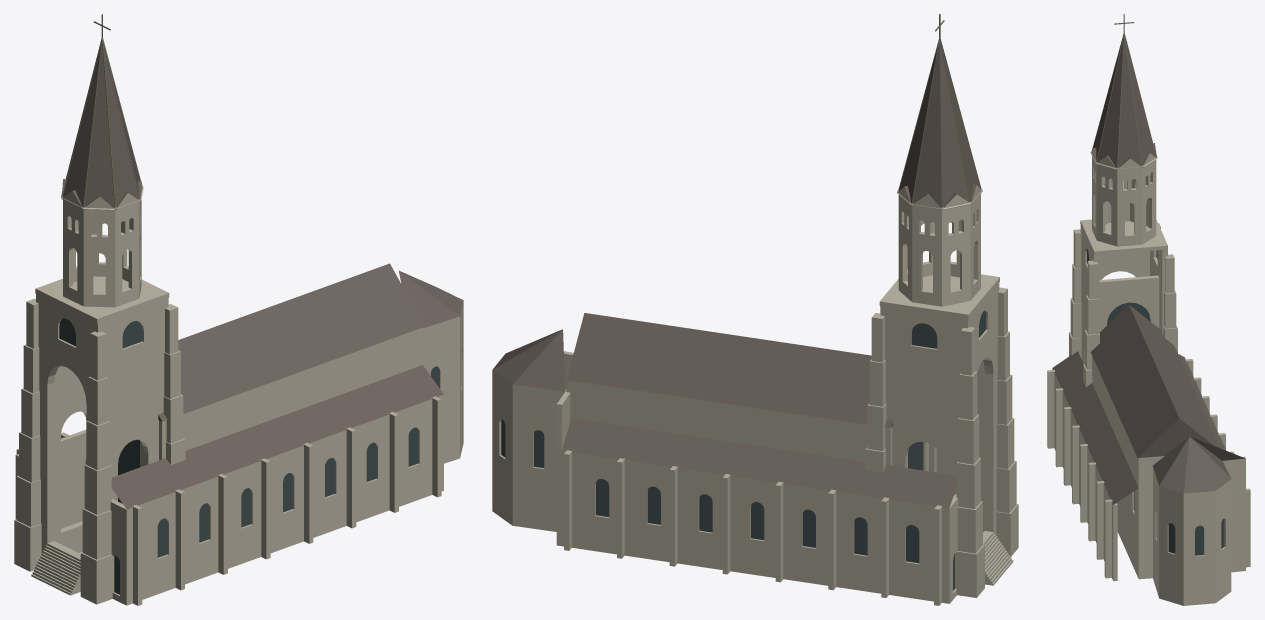
Rendered from basilique-visitation-annecy-far.glb.
The picture shows the model from 3 angles, left to right: view 1: azimuth 30°, elevation 25°; view 2: azimuth 150°, elevation 25°; view 3: azimuth 270°, elevation 25°; orthographic projection. The views are drawn at different scales.
Visible parts, largest first — view 1: basilique-visitation-annecy-0-stone, basilique-visitation-annecy-0-roof, basilique-visitation-annecy-0-glass, basilique-visitation-annecy-0-metal; view 2: basilique-visitation-annecy-0-stone, basilique-visitation-annecy-0-roof, basilique-visitation-annecy-0-glass, basilique-visitation-annecy-0-metal; view 3: basilique-visitation-annecy-0-stone, basilique-visitation-annecy-0-roof, basilique-visitation-annecy-0-glass, basilique-visitation-annecy-0-metal.
Boxes of the visible parts, left/top/right/bottom form: basilique-visitation-annecy-0-stone: left=14, top=183, right=463, bottom=605; basilique-visitation-annecy-0-roof: left=62, top=44, right=463, bottom=509; basilique-visitation-annecy-0-glass: left=59, top=318, right=438, bottom=594; basilique-visitation-annecy-0-metal: left=62, top=14, right=140, bottom=207; basilique-visitation-annecy-0-stone: left=492, top=185, right=1018, bottom=605; basilique-visitation-annecy-0-roof: left=492, top=43, right=980, bottom=508; basilique-visitation-annecy-0-glass: left=501, top=310, right=986, bottom=590; basilique-visitation-annecy-0-metal: left=898, top=14, right=981, bottom=207; basilique-visitation-annecy-0-stone: left=1047, top=148, right=1250, bottom=605; basilique-visitation-annecy-0-roof: left=1052, top=37, right=1245, bottom=504; basilique-visitation-annecy-0-glass: left=1087, top=249, right=1224, bottom=555; basilique-visitation-annecy-0-metal: left=1092, top=14, right=1156, bottom=167.
Bounding box in the file's own units: 62.91 × 72 × 30.31.
